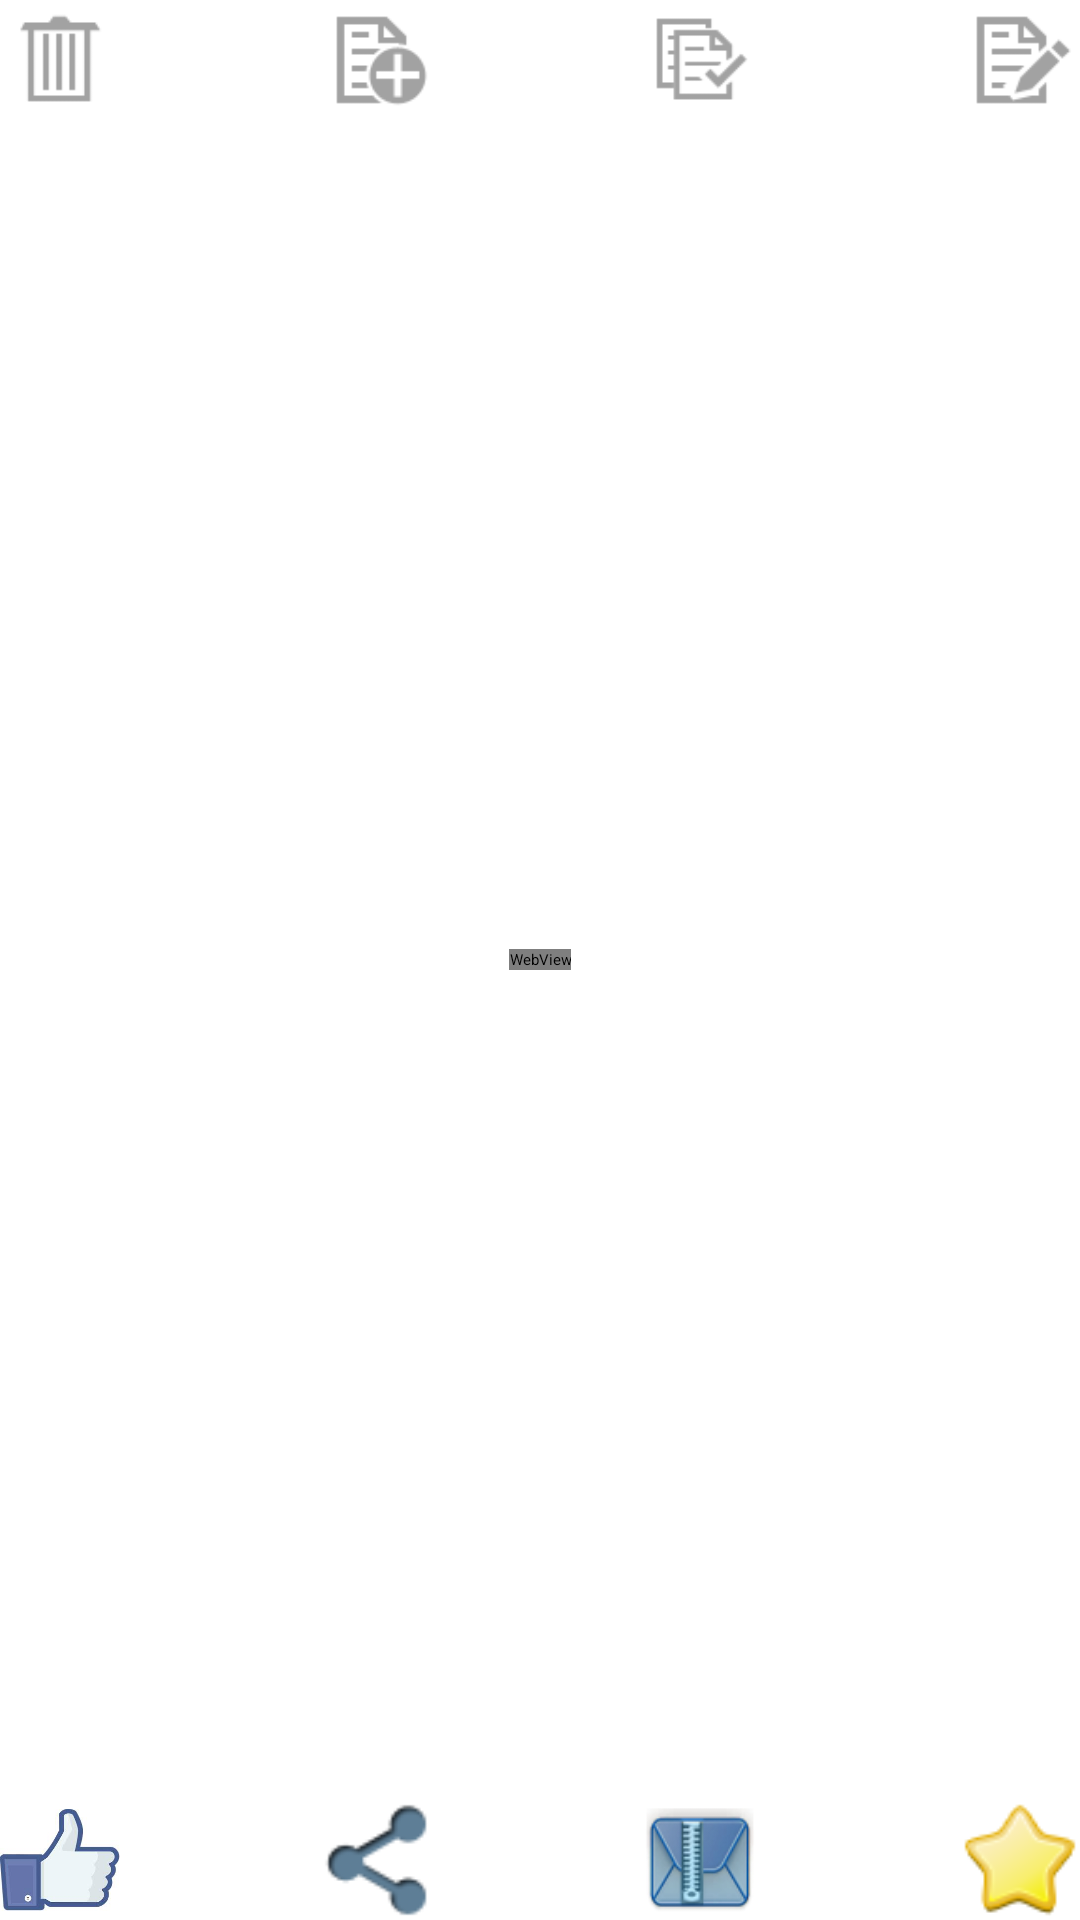

Icons on this 1080px x 1920px Android screen, each with its box as {"x1": x1, "y1": y1, "x2": x2, "y2": y2}:
compress: {"x1": 648, "y1": 1811, "x2": 752, "y2": 1909}
delete: {"x1": 21, "y1": 16, "x2": 100, "y2": 102}
edit: {"x1": 976, "y1": 16, "x2": 1070, "y2": 104}
favorite: {"x1": 964, "y1": 1804, "x2": 1076, "y2": 1915}
share: {"x1": 327, "y1": 1805, "x2": 427, "y2": 1915}
